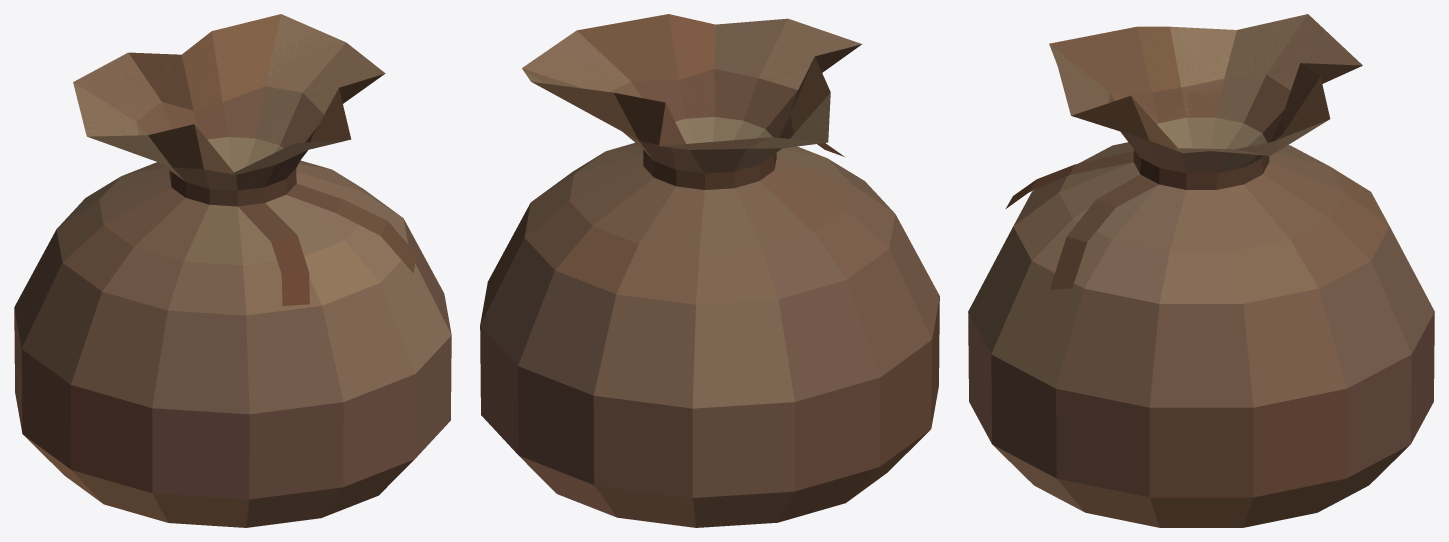
The model's file is Prop_LootBagA.fbx.
3 renders of one model, left to right at view 1: azimuth 30°, elevation 25°; view 2: azimuth 150°, elevation 25°; view 3: azimuth 270°, elevation 25°, orthographic. The views are drawn at different scales.
Visible parts, largest first — view 1: Prop_LootBagA; view 2: Prop_LootBagA; view 3: Prop_LootBagA.
Boxes of the visible parts, box(x1,y1,x2,y2) form: Prop_LootBagA: box(14, 14, 451, 527); Prop_LootBagA: box(480, 14, 939, 527); Prop_LootBagA: box(968, 14, 1434, 527).
Size of the model in its own units: 42.05 by 40.08 by 43.13.
